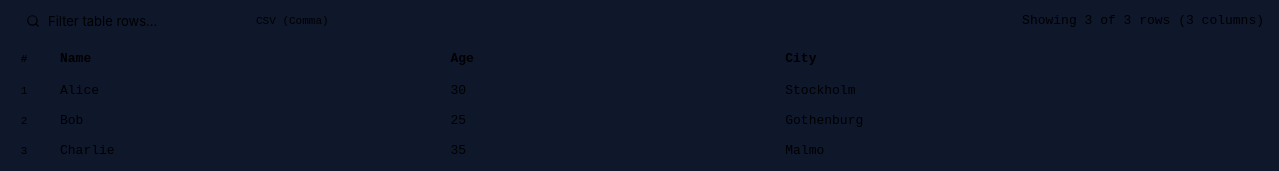
Scenario: CsvTablePreview › filters rows based on search input
This screenshot has width=1279, height=171.
Type "Malmo" into the field with placeholder "Filter table rows..." at (128, 21), box [16,8,240,34]
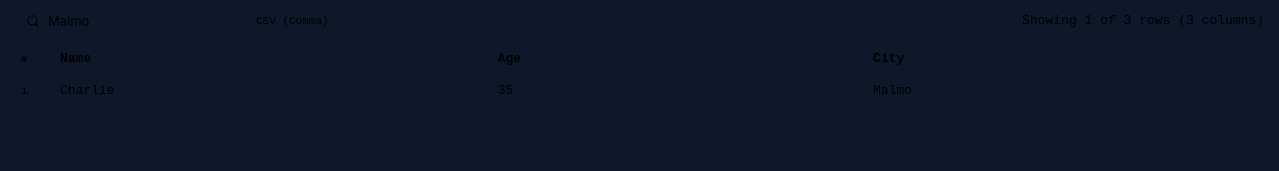
Expected: the text "Charlie" is shown, [48,76,486,106]
Expected: the text "Alice" is gone
Expected: the text "Bob" is gone
